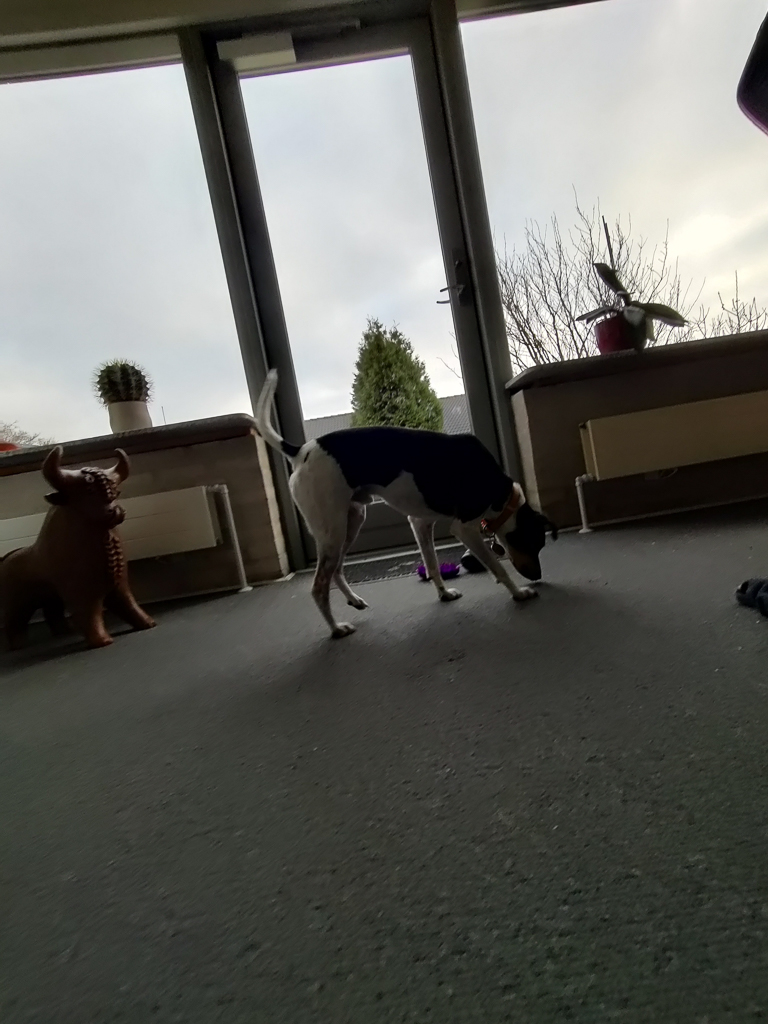Cattle: (0, 442, 167, 662)
Dog: (253, 361, 571, 646)
